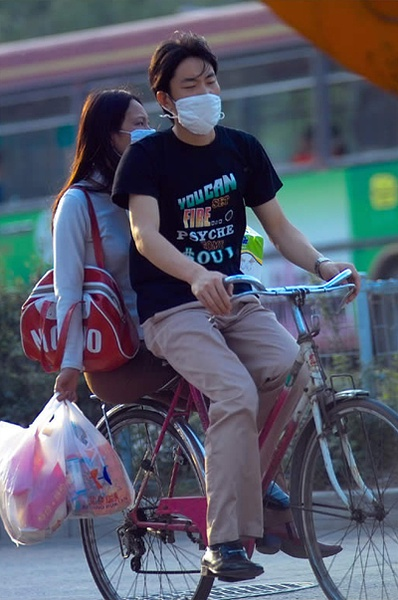face_mask: (170, 55, 219, 131), (115, 101, 151, 172)
